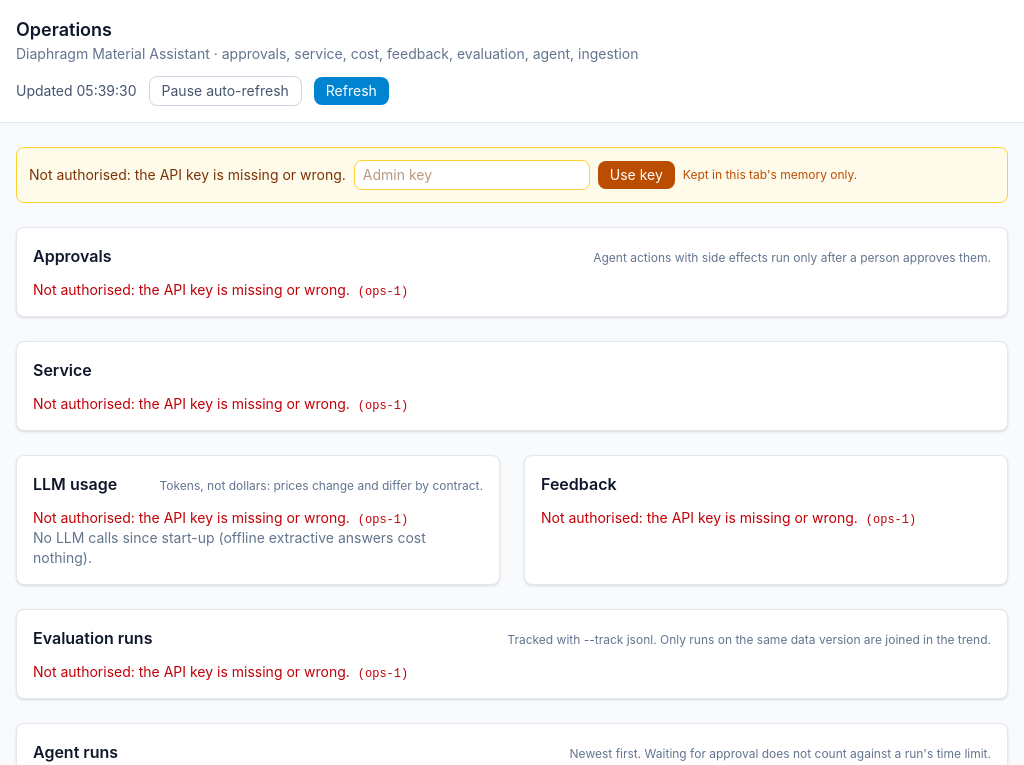
Test: Dashboard › asks for an admin key on 401 and sends it on the next requests
The image size is (1024, 765).
Type "secret-admin" into the password field labelled "Admin key" at (472, 175), box 354,160 -> 590,190
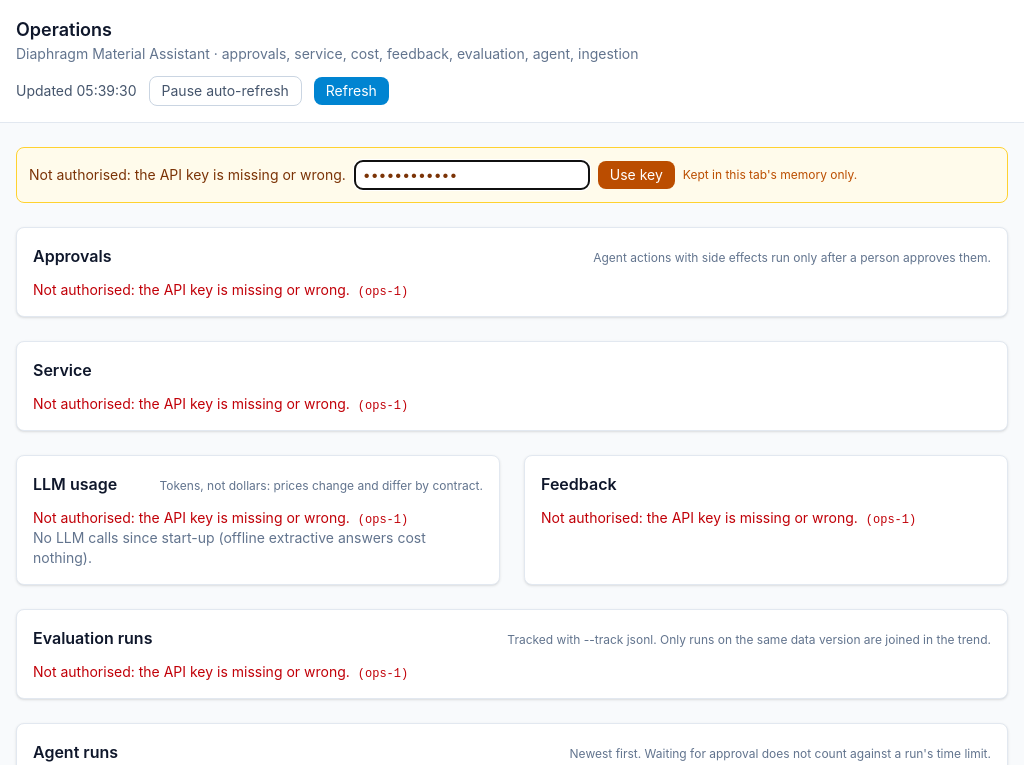
Click the button "Use key" at (636, 175), box 598,161 -> 675,189
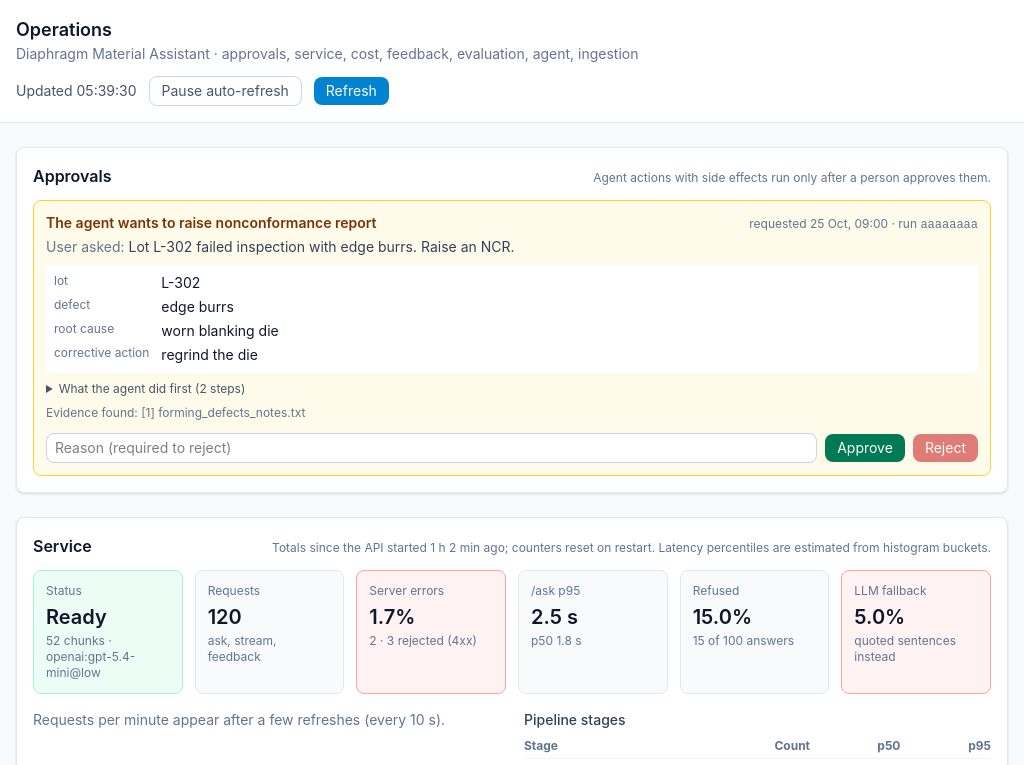
Check: the text "Ready" is shown, box 46,605 -> 107,629
